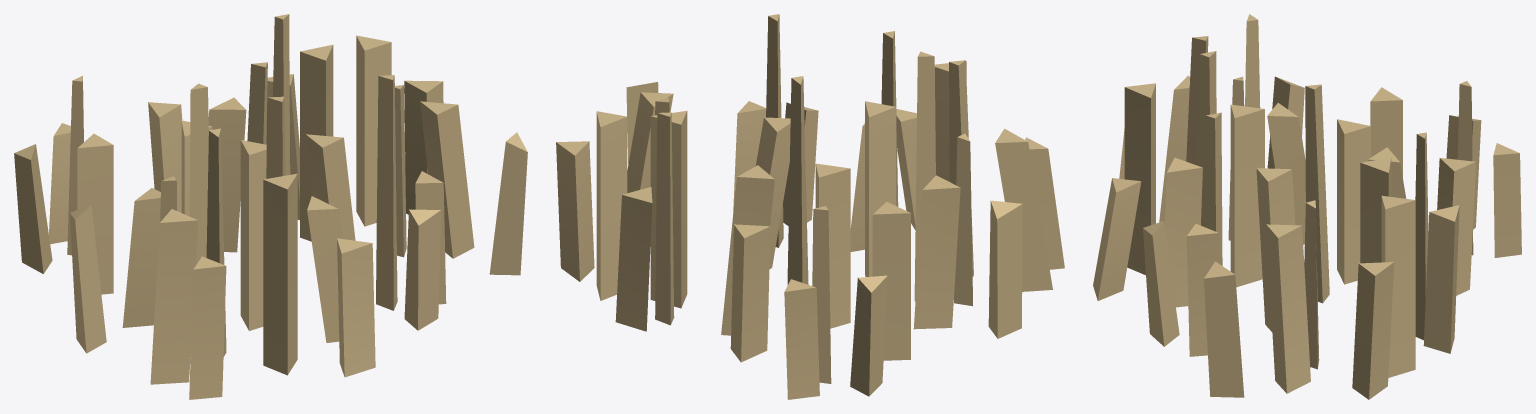
The model's file is SM_Prop_Plant_Wheat_Cut_01.fbx.
3 renders of one model, left to right at view 1: azimuth 30°, elevation 25°; view 2: azimuth 150°, elevation 25°; view 3: azimuth 270°, elevation 25°, orthographic. The views are drawn at different scales.
Parts seen in each view (by area): view 1: SM_Prop_Plant_Wheat_Cut_01; view 2: SM_Prop_Plant_Wheat_Cut_01; view 3: SM_Prop_Plant_Wheat_Cut_01.
Part boxes in pixels (x1,y1,x2,y2): SM_Prop_Plant_Wheat_Cut_01: [14, 14, 527, 399]; SM_Prop_Plant_Wheat_Cut_01: [556, 14, 1064, 399]; SM_Prop_Plant_Wheat_Cut_01: [1093, 14, 1521, 399].
Bounding box in the file's own units: 0.6586 × 0.3674 × 0.6021.
Materials: 1 (1 with a texture image).
